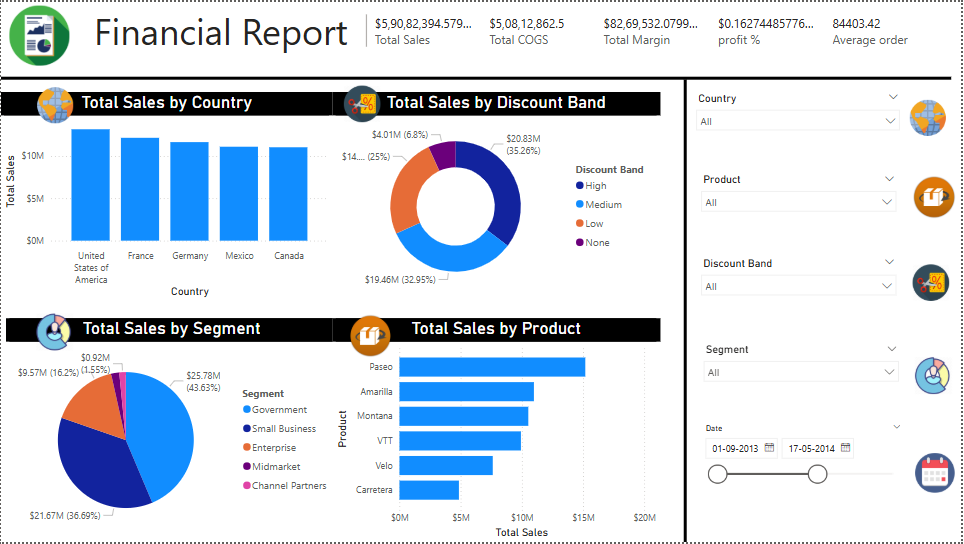

Layout of this report page (visuals, bound fields, positions):
{"tool":"powerbi","page":{"name":"Page 1","canvas":[1280,720],"ordinal":0},"visuals":[{"type":"columnChart","fields":{"Category":["financials.Country"],"Y":["financials.Total Sales"]},"box":[0,120,441.9,279.2],"z":0},{"type":"pieChart","fields":{"Y":["financials.Total Sales"],"Category":["financials.Segment"]},"box":[6.9,421.2,441.9,298.8],"z":1000},{"type":"donutChart","fields":{"Category":["financials.Discount Band"],"Y":["financials.Total Sales"]},"box":[441.9,120,437.3,279.2],"z":2000},{"type":"barChart","fields":{"Y":["financials.Total Sales"],"Category":["financials.Product"]},"box":[441.9,421.2,437.3,298.8],"z":3000},{"type":"multiRowCard","fields":{"Values":["financials.Total Sales","financials.Total COGS","financials.Total Margin","financials.profit %","financials.Average order"]},"box":[482.3,11.5,784.6,91.2],"z":4000},{"type":"slicer","fields":{"Values":["financials.Country"]},"box":[917.3,114.2,291.9,103.8],"z":5000},{"type":"slicer","fields":{"Values":["financials.Date"]},"box":[926.5,556.2,285,124.6],"z":6000},{"type":"slicer","fields":{"Values":["financials.Discount Band"]},"box":[923.1,335.8,280.4,63.5],"z":7000},{"type":"slicer","fields":{"Values":["financials.Segment"]},"box":[926.5,450,280.4,96.9],"z":8000},{"type":"slicer","fields":{"Values":["financials.Product"]},"box":[923.1,223.8,280.4,71.5],"z":9000},{"type":"textbox","box":[392,388.1,7.7,11.6],"z":10000},{"type":"textbox","box":[102.7,0,379.6,90],"z":11000},{"type":"shape","box":[0,73.8,1266.9,56.5],"z":12000},{"type":"shape","box":[879.2,102.7,64.6,617.3],"z":13000},{"type":"image","box":[0,0,102.7,90],"z":14000},{"type":"image","box":[1209.2,596.5,70.4,62.3],"z":15000},{"type":"image","box":[27.7,102.7,87.7,69.2],"z":16000},{"type":"image","box":[448.8,107.3,65.8,58.8],"z":17000},{"type":"image","box":[39.2,409.6,63.5,60],"z":18000},{"type":"image","box":[458.1,409.6,69.2,70.4],"z":19000},{"type":"image","box":[1211.5,468.5,63.5,60],"z":20000},{"type":"image","box":[1206.9,345,65.8,58.8],"z":21000},{"type":"image","box":[1209.2,225,69.2,70.4],"z":22000},{"type":"image","box":[1191.9,120,87.7,69.2],"z":23000}]}

Visuals, with their boxes in screenshot pixels (x1, y1, x2, y2), scaled from the page's 1280x720 canvas onto the 964x544 screenshot:
columnChart - financials.Country x financials.Total Sales: pyautogui.locateOnScreen(0, 91, 333, 302)
pieChart - financials.Total Sales x financials.Segment: pyautogui.locateOnScreen(5, 318, 338, 543)
donutChart - financials.Discount Band x financials.Total Sales: pyautogui.locateOnScreen(333, 91, 662, 302)
barChart - financials.Total Sales x financials.Product: pyautogui.locateOnScreen(333, 318, 662, 543)
multiRowCard - financials.Total Sales x financials.Total COGS: pyautogui.locateOnScreen(363, 9, 954, 78)
slicer - financials.Country: pyautogui.locateOnScreen(691, 86, 911, 165)
slicer - financials.Date: pyautogui.locateOnScreen(698, 420, 912, 514)
slicer - financials.Discount Band: pyautogui.locateOnScreen(695, 254, 906, 302)
slicer - financials.Segment: pyautogui.locateOnScreen(698, 340, 909, 413)
slicer - financials.Product: pyautogui.locateOnScreen(695, 169, 906, 223)
textbox: pyautogui.locateOnScreen(295, 293, 301, 302)
textbox: pyautogui.locateOnScreen(77, 0, 363, 68)
shape: pyautogui.locateOnScreen(0, 56, 954, 98)
shape: pyautogui.locateOnScreen(662, 78, 711, 543)
image: pyautogui.locateOnScreen(0, 0, 77, 68)
image: pyautogui.locateOnScreen(911, 451, 963, 498)
image: pyautogui.locateOnScreen(21, 78, 87, 130)
image: pyautogui.locateOnScreen(338, 81, 388, 125)
image: pyautogui.locateOnScreen(30, 309, 77, 355)
image: pyautogui.locateOnScreen(345, 309, 397, 363)
image: pyautogui.locateOnScreen(912, 354, 960, 399)
image: pyautogui.locateOnScreen(909, 261, 959, 305)
image: pyautogui.locateOnScreen(911, 170, 963, 223)
image: pyautogui.locateOnScreen(898, 91, 963, 143)
